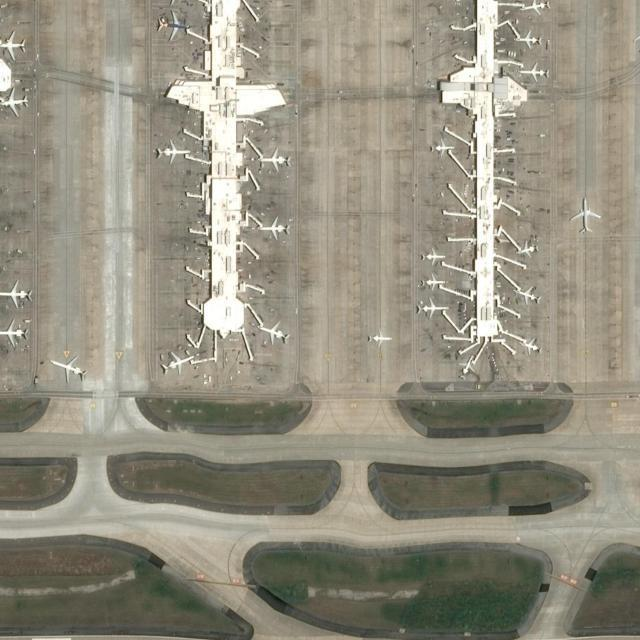Aircraft: (567, 197, 601, 238), (152, 10, 195, 42), (154, 138, 194, 170), (159, 348, 199, 378), (46, 354, 88, 382), (252, 148, 293, 176), (0, 280, 35, 312), (256, 319, 296, 347), (0, 88, 30, 120), (256, 216, 294, 241), (0, 31, 30, 61), (513, 30, 547, 55), (0, 321, 30, 349), (518, 62, 552, 86), (418, 298, 452, 321), (365, 327, 395, 351), (428, 138, 459, 159), (519, 336, 546, 360), (517, 0, 551, 19), (515, 285, 541, 309), (421, 245, 449, 267), (421, 272, 449, 293), (515, 238, 541, 260), (458, 354, 479, 381), (632, 23, 640, 55)
